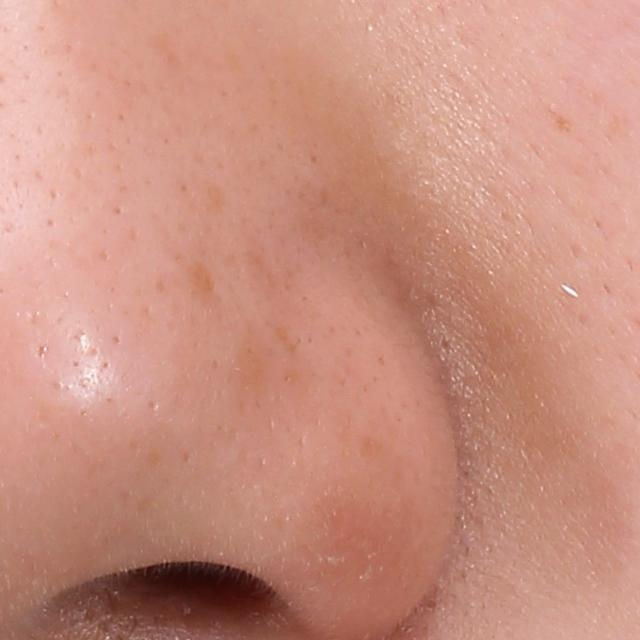melasma: (245, 226, 291, 304), (232, 330, 276, 409), (188, 255, 221, 305), (548, 108, 577, 137)
